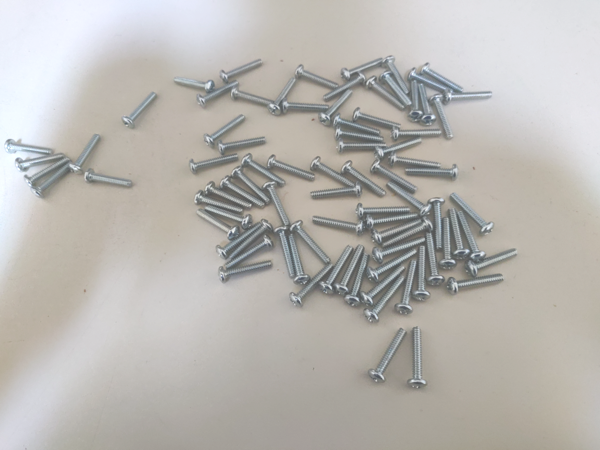longscrew: (369, 328, 406, 383), (464, 244, 522, 278), (292, 263, 335, 308), (290, 220, 332, 265), (222, 236, 276, 271), (361, 267, 407, 307), (228, 222, 275, 261), (385, 180, 435, 215), (369, 277, 406, 322), (452, 192, 493, 232), (321, 244, 352, 295), (386, 222, 438, 252), (380, 222, 432, 252), (335, 246, 366, 296), (34, 159, 72, 199), (369, 251, 421, 280), (370, 222, 422, 251), (342, 162, 385, 197), (24, 157, 70, 189), (347, 252, 374, 305), (231, 168, 273, 202), (204, 112, 246, 146), (447, 272, 506, 296), (218, 259, 274, 284), (243, 153, 284, 187), (216, 223, 259, 255), (218, 177, 265, 206), (203, 182, 250, 210), (374, 137, 426, 162), (370, 165, 418, 192), (123, 90, 157, 128), (322, 73, 366, 102), (320, 90, 357, 124), (309, 158, 353, 186), (70, 133, 100, 174), (367, 78, 404, 111), (193, 192, 241, 217), (13, 154, 67, 176), (423, 64, 465, 92), (197, 211, 239, 239), (220, 57, 263, 84), (277, 225, 297, 282), (206, 206, 253, 230), (265, 182, 290, 227), (462, 211, 484, 262), (218, 135, 269, 157), (196, 80, 239, 106), (339, 56, 385, 80), (267, 156, 315, 179), (189, 152, 239, 174), (298, 64, 341, 89), (383, 69, 412, 106), (227, 88, 280, 108), (370, 215, 418, 237), (270, 76, 297, 115), (353, 108, 400, 130), (427, 229, 443, 290), (415, 246, 431, 307), (400, 258, 416, 319), (410, 328, 426, 389), (83, 171, 136, 189), (3, 139, 53, 158), (392, 128, 444, 146), (449, 208, 467, 260), (312, 183, 361, 202), (349, 205, 411, 220), (335, 115, 381, 135), (309, 219, 368, 234), (387, 56, 409, 96), (405, 164, 459, 180), (290, 234, 306, 286), (445, 90, 496, 106), (409, 71, 449, 91), (436, 93, 452, 142), (281, 100, 330, 115), (332, 129, 388, 142), (390, 157, 440, 171), (171, 75, 215, 90), (336, 141, 388, 153), (433, 199, 445, 251), (444, 217, 455, 273), (423, 82, 435, 127), (410, 80, 422, 121)
